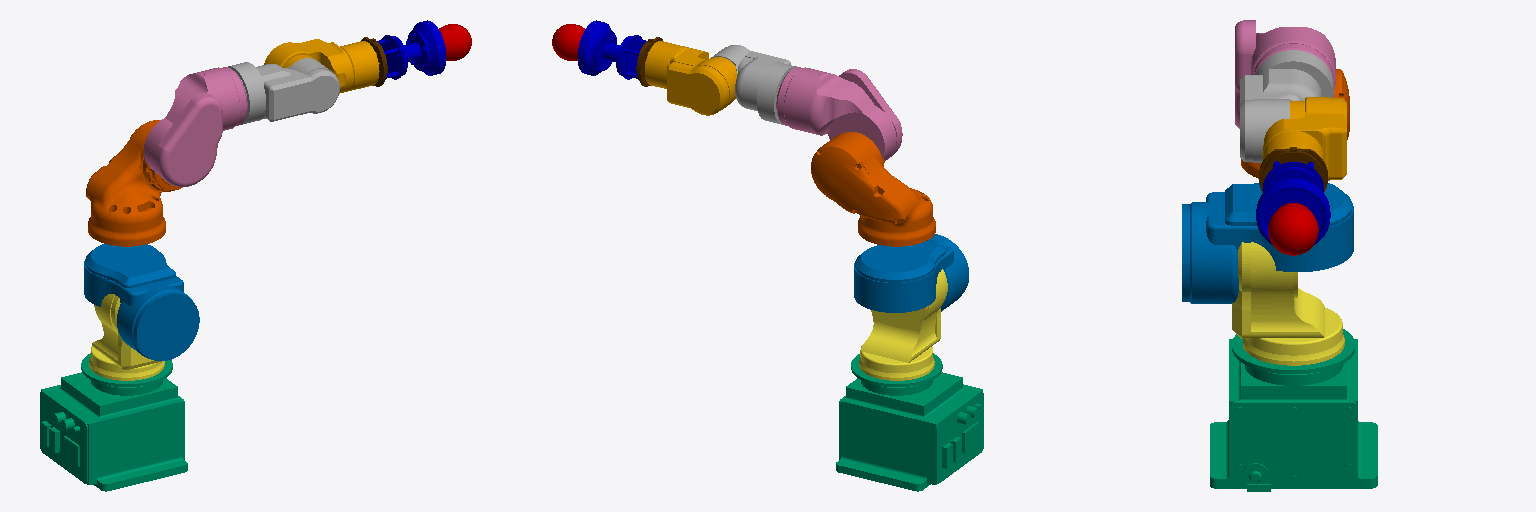
robot.urdf — sia5:
<?xml version="1.0" ?>
<!-- =================================================================================== -->
<!-- |    This document was autogenerated by xacro from sia5_nishida_lab.urdf.xacro    | -->
<!-- |    EDITING THIS FILE BY HAND IS NOT RECOMMENDED                                 | -->
<!-- =================================================================================== -->
<robot name="sia5" xmlns:xacro="http://ros.org/wiki/xacro">
  <!-- File Include -->
  <!-- File Include -->
  <!-- File Include -->
  <material name="black">
    <color rgba="0.0 0.0 0.0 1.0"/>
  </material>
  <material name="blue">
    <color rgba="0.0 0.0 0.8 1.0"/>
  </material>
  <material name="green">
    <color rgba="0.0 0.8 0.0 1.0"/>
  </material>
  <material name="grey">
    <color rgba="0.2 0.2 0.2 1.0"/>
  </material>
  <material name="orange">
    <color rgba="1.0 0.423529411765 0.0392156862745 1.0"/>
  </material>
  <material name="brown">
    <color rgba="0.870588235294 0.811764705882 0.764705882353 1.0"/>
  </material>
  <material name="red">
    <color rgba="0.8 0.0 0.0 1.0"/>
  </material>
  <material name="white">
    <color rgba="1.0 1.0 1.0 1.0"/>
  </material>
  <!-- Mass -->
  <!-- about mass rate -->
  <!-- Hard ware limits -->
  <!-- Range limits -->
  <!-- Velocity limits -->
  <!-- link -->
  <link name="world"/>
  <link name="table_link">
    <visual>
      <geometry>
        <mesh filename="package://motoman_description/meshes/sia5/visual/COLLADA/table_link.dae"/>
      </geometry>
    </visual>
    <collision>
      <origin rpy="0 0 0" xyz="0 0 -0.265"/>
      <geometry>
        <box size="1.116 0.676 0.53"/>
      </geometry>
    </collision>
    <inertial>
      <origin rpy="0 0 0" xyz="0.2 0 0.265"/>
      <mass value="40.0"/>
      <inertia ixx="2.45958666667" ixy="0" ixz="0" iyy="5.08785333333" iyz="0" izz="5.67477333333"/>
    </inertial>
  </link>
  <link name="base_link">
    <visual>
      <geometry>
        <mesh filename="package://motoman_description/meshes/sia5/visual/COLLADA/base_link.dae"/>
      </geometry>
    </visual>
    <collision>
      <geometry>
        <mesh filename="package://motoman_description/meshes/sia5/collision/STL/base_link.stl"/>
      </geometry>
    </collision>
    <inertial>
      <origin rpy="0 0 0" xyz="-0.025918 -0.000376 0.076105"/>
      <mass value="9.23913043478"/>
      <inertia ixx="0.0378685009058" ixy="0" ixz="0" iyy="0.0465867830616" iyz="0" izz="0.0514065294384"/>
    </inertial>
  </link>
  <link name="link_s">
    <visual>
      <geometry>
        <mesh filename="package://motoman_description/meshes/sia5/visual/COLLADA/link_s.dae"/>
      </geometry>
    </visual>
    <collision>
      <geometry>
        <mesh filename="package://motoman_description/meshes/sia5/collision/STL/link_s.stl"/>
      </geometry>
    </collision>
    <inertial>
      <origin rpy="0 0 0" xyz="0 0 0"/>
      <mass value="8.36956521739"/>
      <inertia ixx="0.1285284" ixy="0" ixz="0" iyy="0.127697251956" iyz="0" izz="0.0186623672464"/>
    </inertial>
  </link>
  <link name="link_l">
    <visual>
      <geometry>
        <mesh filename="package://motoman_description/meshes/sia5/visual/COLLADA/link_l.dae"/>
      </geometry>
    </visual>
    <collision>
      <geometry>
        <mesh filename="package://motoman_description/meshes/sia5/collision/STL/link_l.stl"/>
      </geometry>
    </collision>
    <inertial>
      <origin rpy="3.14159274 0 0" xyz="0 -0.006 0.15"/>
      <mass value="7.60869565217"/>
      <inertia ixx="0.12248884058" ixy="0" ixz="0" iyy="0.117554616667" iyz="0" izz="0.0177495804348"/>
    </inertial>
  </link>
  <link name="link_e">
    <visual>
      <geometry>
        <mesh filename="package://motoman_description/meshes/sia5/visual/COLLADA/link_e.dae"/>
      </geometry>
    </visual>
    <collision>
      <geometry>
        <mesh filename="package://motoman_description/meshes/sia5/collision/STL/link_e.stl"/>
      </geometry>
    </collision>
    <inertial>
      <origin rpy="0 0 -1.57079637" xyz="0 0 0"/>
      <mass value="1.30434782609"/>
      <inertia ixx="0.0122899381739" ixy="0" ixz="0" iyy="0.0117127787826" iyz="0" izz="0.00344401234783"/>
    </inertial>
  </link>
  <link name="link_u">
    <visual>
      <geometry>
        <mesh filename="package://motoman_description/meshes/sia5/visual/COLLADA/link_u.dae"/>
      </geometry>
    </visual>
    <collision>
      <geometry>
        <mesh filename="package://motoman_description/meshes/sia5/collision/STL/link_u.stl"/>
      </geometry>
    </collision>
    <inertial>
      <origin rpy="-3.14159274 1.57079637 0" xyz="0.008 -0.06 -0.131"/>
      <mass value="1.08695652174"/>
      <inertia ixx="0.0110207115768" ixy="0" ixz="0" iyy="0.00996803594202" iyz="0" izz="0.00214043853333"/>
    </inertial>
  </link>
  <link name="link_r">
    <visual>
      <geometry>
        <mesh filename="package://motoman_description/meshes/sia5/visual/COLLADA/link_r.dae"/>
      </geometry>
    </visual>
    <collision>
      <geometry>
        <mesh filename="package://motoman_description/meshes/sia5/collision/STL/link_r.stl"/>
      </geometry>
    </collision>
    <inertial>
      <origin rpy="0 0 -1.57079637" xyz="0 0 0"/>
      <mass value="0.978260869565"/>
      <inertia ixx="0.0108400832201" ixy="0" ixz="0" iyy="0.010708873981" iyz="0" izz="0.00140456861413"/>
    </inertial>
  </link>
  <link name="link_b">
    <visual>
      <geometry>
        <mesh filename="package://motoman_description/meshes/sia5/visual/COLLADA/link_b.dae"/>
      </geometry>
    </visual>
    <collision>
      <geometry>
        <mesh filename="package://motoman_description/meshes/sia5/collision/STL/link_b.stl"/>
      </geometry>
    </collision>
    <inertial>
      <origin rpy="1.57079637 -1.57079637 0" xyz="0 0.0045 0.1365"/>
      <mass value="0.869565217391"/>
      <inertia ixx="0.00814341869565" ixy="0" ixz="0" iyy="0.00709473869565" iyz="0" izz="0.000736577391304"/>
    </inertial>
  </link>
  <link name="link_t">
    <visual>
      <geometry>
        <mesh filename="package://motoman_description/meshes/sia5/visual/COLLADA/link_t.dae"/>
      </geometry>
    </visual>
    <collision>
      <geometry>
        <mesh filename="package://motoman_description/meshes/sia5/collision/STL/link_t.stl"/>
      </geometry>
    </collision>
    <inertial>
      <mass value="0.54347826087"/>
      <inertia ixx="0.003" ixy="0" ixz="0" iyy="0.003" iyz="0" izz="0.001"/>
    </inertial>
  </link>
  <link name="tool0"/>
  <!-- joint -->
  <joint name="world" type="fixed">
    <parent link="world"/>
    <child link="table_link"/>
    <origin xyz="0 0 0.53"/>
  </joint>
  <joint name="joint_base" type="fixed">
    <parent link="table_link"/>
    <child link="base_link"/>
  </joint>
  <joint name="joint_s" type="revolute">
    <origin rpy="0 0 0" xyz="0 0 0.1765"/>
    <parent link="base_link"/>
    <child link="link_s"/>
    <axis xyz="0 0 1"/>
    <dynamics damping="0.7" friction="0.7"/>
    <limit effort="30.0" lower="-3.14159256547" upper="3.14159256547" velocity="3.4906586"/>
  </joint>
  <joint name="joint_l" type="revolute">
    <origin rpy="0 0 0" xyz="0 0.006 0.136"/>
    <parent link="link_s"/>
    <child link="link_l"/>
    <axis xyz="0 1 0"/>
    <dynamics damping="0.7" friction="0.7"/>
    <limit effort="30.0" lower="-1.91986223" upper="1.91986223" velocity="3.4906586"/>
  </joint>
  <joint name="joint_e" type="revolute">
    <origin rpy="0 0 0" xyz="0 -0.006 0.15"/>
    <parent link="link_l"/>
    <child link="link_e"/>
    <axis xyz="0 0 1"/>
    <dynamics damping="0.7" friction="0.7"/>
    <limit effort="30.0" lower="-2.96705981" upper="2.96705981" velocity="3.4906586"/>
  </joint>
  <joint name="joint_u" type="revolute">
    <origin rpy="1.57079637 0 0" xyz="0.085 -0.00826931 0.12275299"/>
    <parent link="link_e"/>
    <child link="link_u"/>
    <axis xyz="0 0 1"/>
    <dynamics damping="0.7" friction="0.7"/>
    <limit effort="30.0" lower="-1.57079637" upper="2.007128695" velocity="3.4906586"/>
  </joint>
  <joint name="joint_r" type="revolute">
    <origin rpy="0 1.57079637 0" xyz="0.131 0.06 -0.008"/>
    <parent link="link_u"/>
    <child link="link_r"/>
    <axis xyz="0 0 -1"/>
    <dynamics damping="0.7" friction="0.7"/>
    <limit effort="14.7" lower="-3.14159256547" upper="3.14159256547" velocity="3.4906586"/>
  </joint>
  <joint name="joint_b" type="revolute">
    <origin rpy="0 -1.57079637 0" xyz="-0.0045 0 0.139"/>
    <parent link="link_r"/>
    <child link="link_b"/>
    <axis xyz="0 0 1"/>
    <dynamics damping="0.7" friction="0.7"/>
    <limit effort="14.7" lower="-1.91986223" upper="1.91986223" velocity="4.01425739"/>
  </joint>
  <joint name="joint_t" type="revolute">
    <origin rpy="-1.57079637 0 0" xyz="0.1365 0 -0.0045"/>
    <parent link="link_b"/>
    <child link="link_t"/>
    <axis xyz="-1 0 0"/>
    <dynamics damping="0.7" friction="0.7"/>
    <limit effort="7.35" lower="-3.14159256547" upper="3.14159256547" velocity="6.10865255"/>
  </joint>
  <joint name="joint_tool0" type="fixed">
    <origin rpy="0 0 0" xyz="0.0115 0 0"/>
    <parent link="link_t"/>
    <child link="tool0"/>
  </joint>
  <!-- transmission -->
  <transmission name="transmission_s">
    <type>transmission_interface/SimpleTransmission</type>
    <joint name="joint_s">
      <hardwareInterface>EffortJointInterface</hardwareInterface>
    </joint>
    <actuator name="motor_s">
      <hardwareInterface>EffortJointInterface</hardwareInterface>
      <mechanicalReduction>1</mechanicalReduction>
    </actuator>
  </transmission>
  <transmission name="transmission_l">
    <type>transmission_interface/SimpleTransmission</type>
    <joint name="joint_l">
      <hardwareInterface>EffortJointInterface</hardwareInterface>
    </joint>
    <actuator name="motor_l">
      <hardwareInterface>EffortJointInterface</hardwareInterface>
      <mechanicalReduction>1</mechanicalReduction>
    </actuator>
  </transmission>
  <transmission name="transmission_e">
    <type>transmission_interface/SimpleTransmission</type>
    <joint name="joint_e">
      <hardwareInterface>EffortJointInterface</hardwareInterface>
    </joint>
    <actuator name="motor_e">
      <hardwareInterface>EffortJointInterface</hardwareInterface>
      <mechanicalReduction>1</mechanicalReduction>
    </actuator>
  </transmission>
  <transmission name="transmission_u">
    <type>transmission_interface/SimpleTransmission</type>
    <joint name="joint_u">
      <hardwareInterface>EffortJointInterface</hardwareInterface>
    </joint>
    <actuator name="motor_u">
      <hardwareInterface>EffortJointInterface</hardwareInterface>
      <mechanicalReduction>1</mechanicalReduction>
    </actuator>
  </transmission>
  <transmission name="transmission_r">
    <type>transmission_interface/SimpleTransmission</type>
    <joint name="joint_r">
      <hardwareInterface>EffortJointInterface</hardwareInterface>
    </joint>
    <actuator name="motor_r">
      <hardwareInterface>EffortJointInterface</hardwareInterface>
      <mechanicalReduction>1</mechanicalReduction>
    </actuator>
  </transmission>
  <transmission name="transmission_b">
    <type>transmission_interface/SimpleTransmission</type>
    <joint name="joint_b">
      <hardwareInterface>EffortJointInterface</hardwareInterface>
    </joint>
    <actuator name="motor_b">
      <hardwareInterface>EffortJointInterface</hardwareInterface>
      <mechanicalReduction>1</mechanicalReduction>
    </actuator>
  </transmission>
  <transmission name="transmission_t">
    <type>transmission_interface/SimpleTransmission</type>
    <joint name="joint_t">
      <hardwareInterface>EffortJointInterface</hardwareInterface>
    </joint>
    <actuator name="motor_t">
      <hardwareInterface>EffortJointInterface</hardwareInterface>
      <mechanicalReduction>1</mechanicalReduction>
    </actuator>
  </transmission>
  <!-- gazebo -->
  <gazebo>
    <plugin filename="libgazebo_ros_control.so" name="gazebo_ros_control">
      <robotNamespace>/sia5</robotNamespace>
      <!-- <robotSimType>gazebo_ros_control/DefaultRobotHWSim</robotSimType> -->
    </plugin>
  </gazebo>
  <gazebo reference="base_link">
    <mu1>0.2</mu1>
    <mu2>0.2</mu2>
    <selfCollide>true</selfCollide>
  </gazebo>
  <gazebo reference="link_s">
    <mu1>0.2</mu1>
    <mu2>0.2</mu2>
    <selfCollide>true</selfCollide>
  </gazebo>
  <gazebo reference="link_l">
    <mu1>0.2</mu1>
    <mu2>0.2</mu2>
    <selfCollide>true</selfCollide>
  </gazebo>
  <gazebo reference="link_e">
    <mu1>0.2</mu1>
    <mu2>0.2</mu2>
    <selfCollide>true</selfCollide>
  </gazebo>
  <gazebo reference="link_u">
    <mu1>0.2</mu1>
    <mu2>0.2</mu2>
    <selfCollide>true</selfCollide>
  </gazebo>
  <gazebo reference="link_r">
    <mu1>0.2</mu1>
    <mu2>0.2</mu2>
    <selfCollide>true</selfCollide>
  </gazebo>
  <gazebo reference="link_b">
    <mu1>0.2</mu1>
    <mu2>0.2</mu2>
    <selfCollide>true</selfCollide>
  </gazebo>
  <gazebo reference="link_t">
    <mu1>0.2</mu1>
    <mu2>0.2</mu2>
    <selfCollide>true</selfCollide>
  </gazebo>
  <!-- Link -->
  <link name="gripper_link">
    <visual>
      <material name="blue"/>
      <geometry>
        <mesh filename="package://motoman_description/meshes/tool/visual/COLLADA/gripper_link.stl"/>
      </geometry>
    </visual>
    <collision>
      <geometry>
        <mesh filename="package://motoman_description/meshes/tool/collision/STL/gripper_link.stl"/>
      </geometry>
    </collision>
    <inertial>
      <origin rpy="0 0 0" xyz="0 0 0"/>
      <mass value="1.0"/>
      <inertia ixx="0.0337904627083" ixy="0" ixz="0" iyy="0.0337904627083" iyz="0" izz="0.004656125"/>
    </inertial>
  </link>
  <link name="balloon">
    <visual>
      <material name="red"/>
      <geometry>
        <mesh filename="package://motoman_description/meshes/tool/visual/COLLADA/balloon.stl"/>
      </geometry>
    </visual>
    <inertial>
      <mass value="0.3"/>
      <inertia ixx="0.001" ixy="0" ixz="0" iyy="0.001" iyz="0" izz="0.001"/>
    </inertial>
  </link>
  <!-- Joint -->
  <joint name="joint_gripper" type="fixed">
    <origin rpy="-0.1745 0 0" xyz="0 0 0"/>
    <parent link="tool0"/>
    <child link="gripper_link"/>
  </joint>
  <joint name="joint_balloon" type="fixed">
    <origin rpy="0.1745 0 0" xyz="0.108 0 0"/>
    <parent link="gripper_link"/>
    <child link="balloon"/>
  </joint>
  <!-- Gazebo -->
  <gazebo reference="gripper_link">
    <mu1>0.2</mu1>
    <mu2>0.2</mu2>
    <selfCollide>true</selfCollide>
    <material>Gazebo/Blue</material>
  </gazebo>
  <gazebo reference="balloon">
    <mu1>0.2</mu1>
    <mu2>0.2</mu2>
    <selfCollide>true</selfCollide>
    <material>Gazebo/Red</material>
  </gazebo>
  <!-- add Kinect V2 -->
  <!-- Link -->
  <link name="kinect2_link">
    <visual>
      <geometry>
        <mesh filename="package://motoman_description/meshes/sensor/visual/COLLADA/kinect2.dae"/>
      </geometry>
    </visual>
    <collision>
      <geometry>
        <box size="0.07 0.5 0.043"/>
      </geometry>
    </collision>
    <inertial>
      <mass value="0.5"/>
      <inertia ixx="0.00674371" ixy="0" ixz="0" iyy="0.000281208" iyz="0" izz="0.0068708"/>
    </inertial>
  </link>
  <!-- Joint -->
  <joint name="joint_kinect2" type="fixed">
    <origin rpy="0 -0.1745 0" xyz="0.50024 0 0.8195"/>
    <parent link="world"/>
    <child link="kinect2_link"/>
  </joint>
  <!-- Gazebo -->
  <gazebo reference="kinect2_link">
    <sensor name="kinect2" type="depth">
      <always_on>true</always_on>
      <update_rate>30.0</update_rate>
      <camera>
        <horizontal_fov>1.4678219413</horizontal_fov>
        <!-- <vertical_fov>${53.8*M_PI/180.0}</vertical_fov> -->
        <image>
          <format>R8G8B8</format>
          <width>512</width>
          <height>424</height>
        </image>
        <clip>
          <near>0.05</near>
          <far>4.5</far>
        </clip>
      </camera>
      <plugin filename="libgazebo_ros_openni_kinect.so" name="kinect2_camera_controller">
        <cameraName>kinect</cameraName>
        <alwaysOn>true</alwaysOn>
        <updateRate>30</updateRate>
        <imageTopicName>rgb/image_raw</imageTopicName>
        <depthImageTopicName>depth/image_raw</depthImageTopicName>
        <pointCloudTopicName>depth/points</pointCloudTopicName>
        <cameraInfoTopicName>rgb/camera_info</cameraInfoTopicName>
        <depthImageCameraInfoTopicName>depth/camera_info</depthImageCameraInfoTopicName>
        <frameName>camera_depth_optical_frame_kinect2</frameName>
        <baseline>0.1</baseline>
        <distortion_k1>0.0</distortion_k1>
        <distortion_k2>0.0</distortion_k2>
        <distortion_k3>0.0</distortion_k3>
        <distortion_t1>0.0</distortion_t1>
        <distortion_t2>0.0</distortion_t2>
        <pointCloudCutoff>0.05</pointCloudCutoff>
        <pointCloudCutoffMax>4.5</pointCloudCutoffMax>
      </plugin>
    </sensor>
  </gazebo>
</robot>

--- What the picture shows (computed from the rendered views, not written in the file) ---
Views: 3 orthographic renders of the robot side by side, from view 1: azimuth 30°, elevation 25°; view 2: azimuth 150°, elevation 25°; view 3: azimuth 270°, elevation 25°.
Model sia5 with 14 links and 13 joints (7 revolute, 6 fixed), rooted at world, posed every joint at zero.
Links seen in each view (by area): view 1: base_link, link_l, link_u, link_e, link_r, link_b, link_s, gripper_link, balloon; view 2: base_link, link_e, link_u, link_l, link_s, link_b, link_r, gripper_link, balloon; view 3: base_link, link_l, link_s, link_r, link_b, link_u, gripper_link, balloon, link_t, link_e.
Link boxes in pixels (bbox=[...]): base_link: bbox=[40, 353, 187, 491]; link_l: bbox=[84, 244, 199, 360]; link_u: bbox=[144, 67, 247, 186]; link_e: bbox=[86, 120, 182, 246]; link_r: bbox=[228, 58, 339, 124]; link_b: bbox=[264, 39, 379, 93]; link_s: bbox=[89, 294, 164, 380]; gripper_link: bbox=[377, 20, 446, 79]; balloon: bbox=[439, 24, 471, 60]; base_link: bbox=[836, 353, 983, 491]; link_e: bbox=[811, 132, 935, 246]; link_u: bbox=[776, 67, 902, 160]; link_l: bbox=[854, 234, 968, 312]; link_s: bbox=[859, 269, 947, 380]; link_b: bbox=[645, 41, 736, 115]; link_r: bbox=[710, 45, 796, 124]; gripper_link: bbox=[578, 20, 646, 79]; balloon: bbox=[552, 24, 584, 60]; base_link: bbox=[1210, 329, 1377, 491]; link_l: bbox=[1182, 183, 1353, 303]; link_s: bbox=[1232, 242, 1344, 365]; link_r: bbox=[1240, 50, 1333, 162]; link_b: bbox=[1262, 97, 1346, 180]; link_u: bbox=[1235, 20, 1335, 128]; gripper_link: bbox=[1256, 161, 1330, 244]; balloon: bbox=[1268, 203, 1318, 255]; link_t: bbox=[1259, 147, 1327, 192]; link_e: bbox=[1241, 69, 1349, 178].
Bounding box of the posed robot: 0.8359 × 0.2528 × 0.7003 m (x, y, z).
Meshes: 12 distinct files referenced, 10 mesh visuals loaded (2 binary STL, 8 Collada DAE); not drawn: 2 (reference not matched to a file when rendering).
